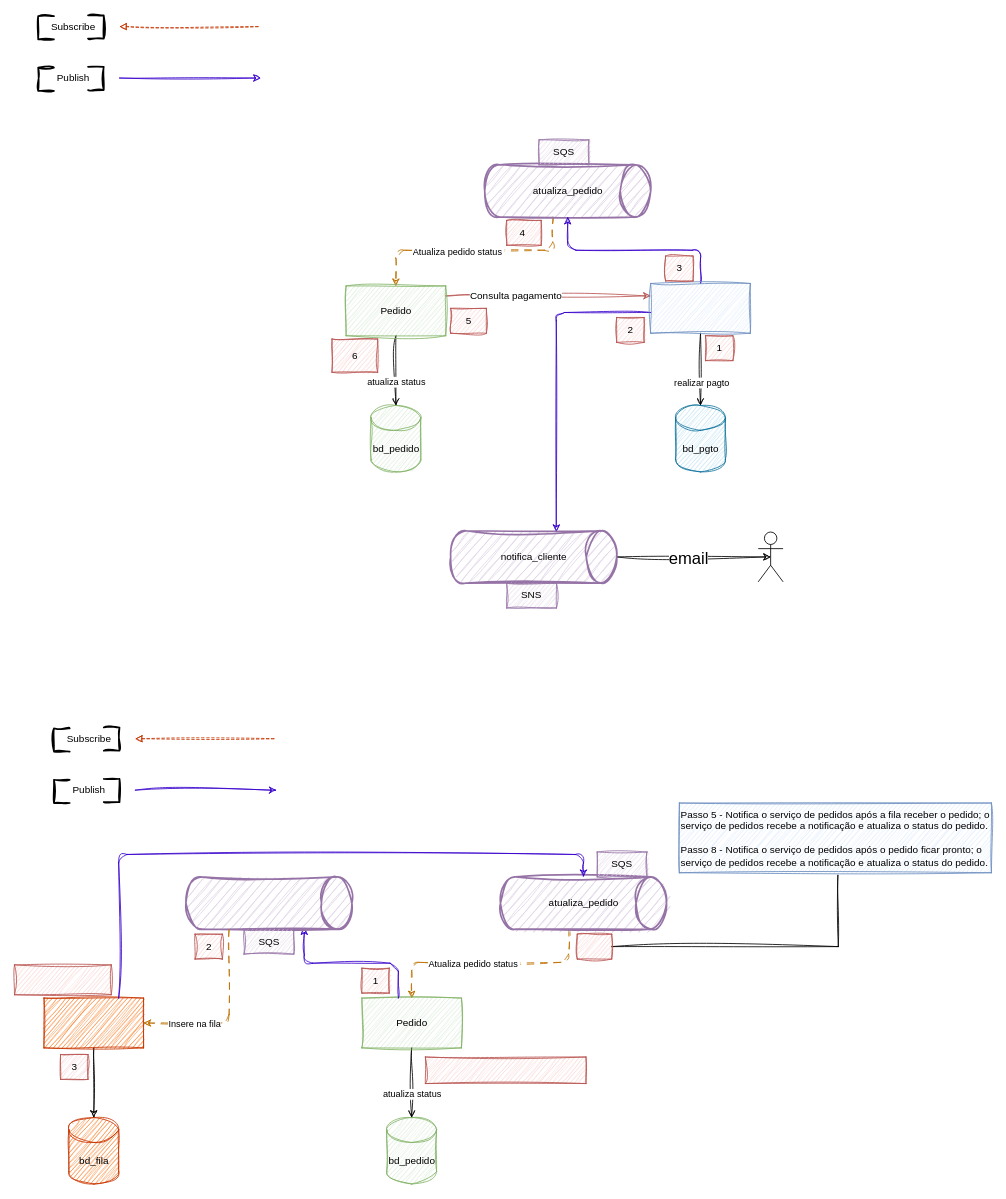
Some shapes in this 1006 by 1199 pixel diagram are drawn without their labels. Here are the shapes that lost their labels. From the top down, the box of each, then its label:
(650, 283, 750, 333): Pagamento
(757, 531, 783, 582): Actor
(185, 876, 352, 930): fila_pedidos
(576, 933, 612, 959): 5 ou 8
(14, 964, 111, 995): 4 - pedido recebido 7 - pedido pronto
(43, 997, 144, 1048): Fila
(425, 1056, 586, 1084): 6 - Atualiza para pedido recebido 9 - Atualiza para pedido pronto
